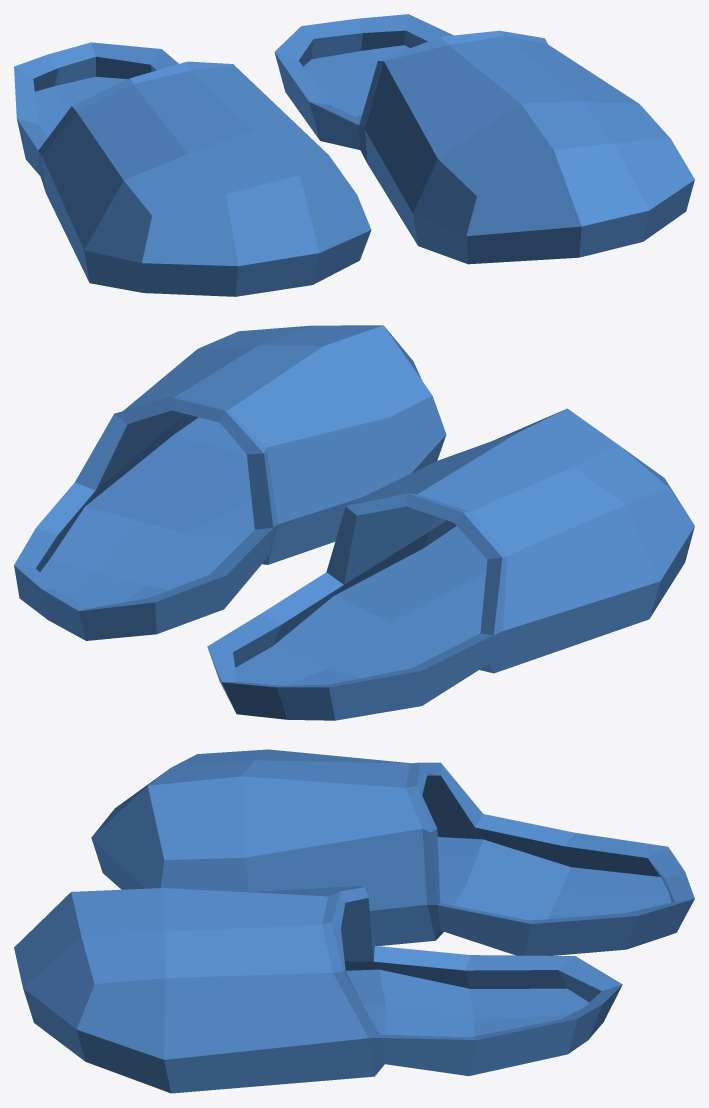
The model's file is Slippers.fbx.
The picture shows the model from 3 angles, top to bottom: view 1: azimuth 30°, elevation 25°; view 2: azimuth 150°, elevation 25°; view 3: azimuth 270°, elevation 25°; orthographic projection. The views are drawn at different scales.
Visible parts, largest first — view 1: Slippers; view 2: Slippers; view 3: Slippers.
Boxes of the visible parts, x1,y1,x2,y2 form: Slippers: [14, 14, 694, 296]; Slippers: [14, 325, 694, 720]; Slippers: [14, 749, 694, 1093].
Bounding box in the file's own units: 46.55 × 50.61 × 11.52.
